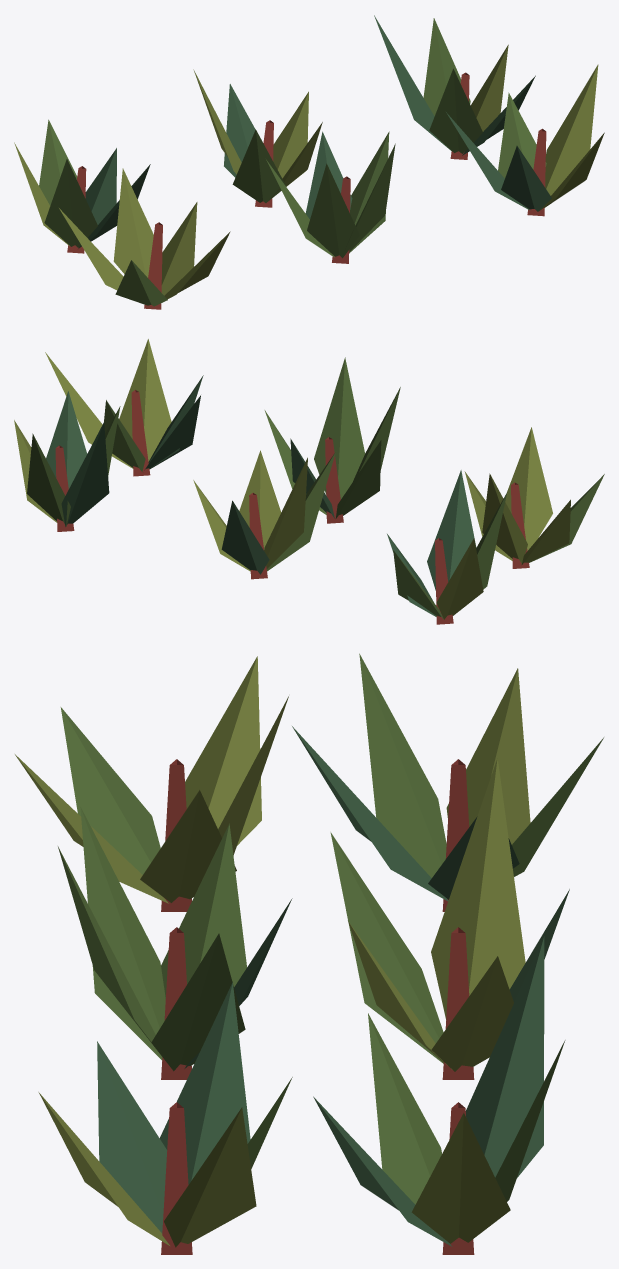
The model's file is chard.glb.
3 views of the same model, one above another, from view 1: azimuth 30°, elevation 25°; view 2: azimuth 150°, elevation 25°; view 3: azimuth 270°, elevation 25° (orthographic). The views are drawn at different scales.
Parts seen in each view (by area): view 1: chard; view 2: chard; view 3: chard.
Boxes of the visible parts, <box> form: chard: <box>14,15,604,309</box>; chard: <box>14,339,604,624</box>; chard: <box>15,653,603,1254</box>.
Bounding box in the file's own units: 2.06 × 0.5293 × 1.07.
